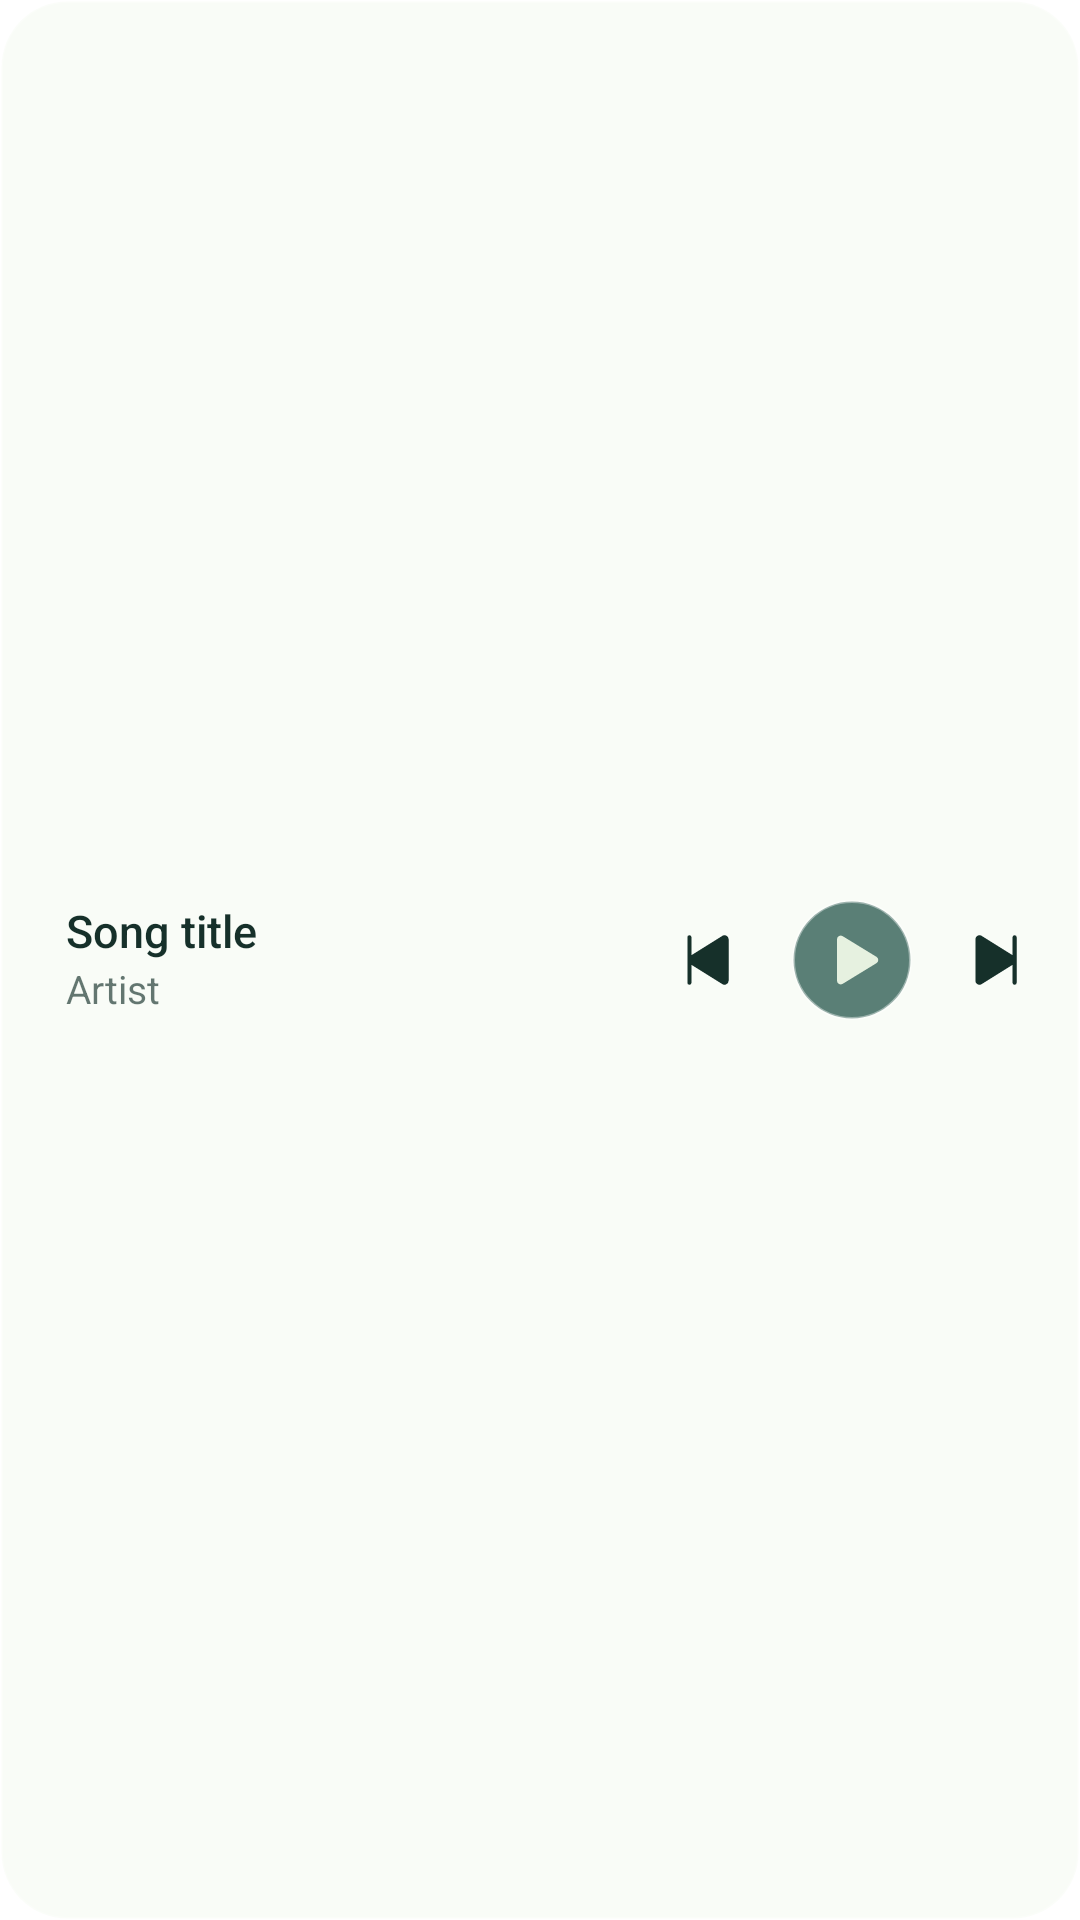

Icons on this 1080×1920 Android screen, each with the point to tap as (x=x, y=y):
Next song: (x=996, y=960)
Previous song: (x=708, y=960)
widget play: (x=852, y=960)
